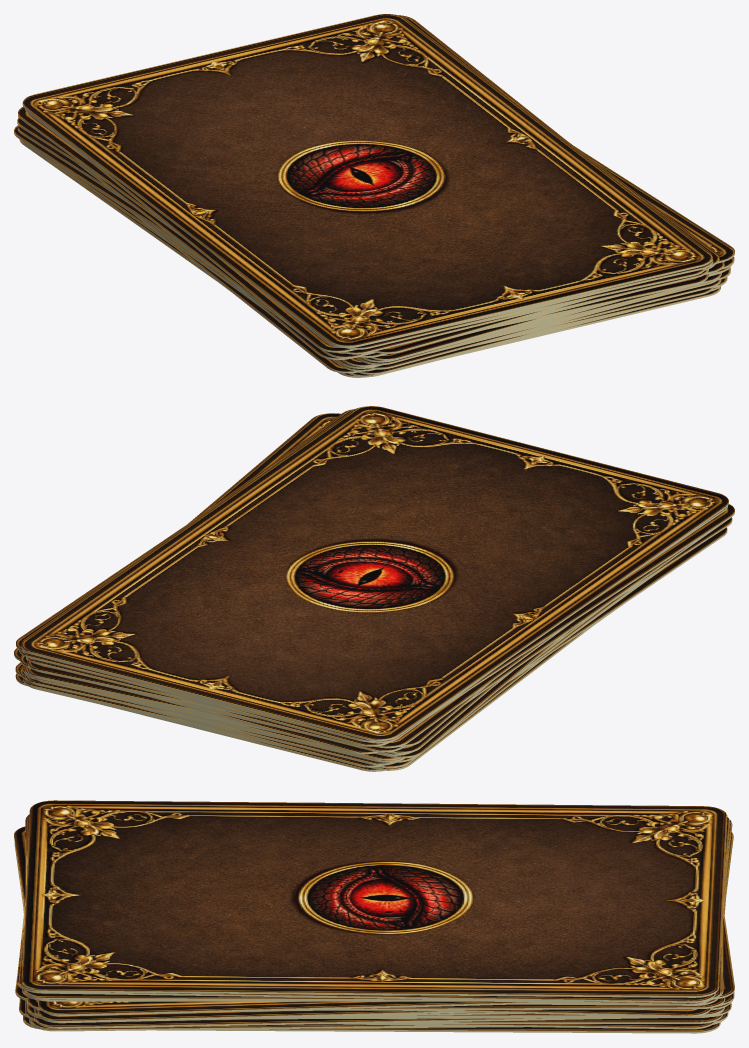
File: Deck principal.fbx
3 views of the same model, one above another, from view 1: azimuth 30°, elevation 25°; view 2: azimuth 150°, elevation 25°; view 3: azimuth 270°, elevation 25° (orthographic). The views are drawn at different scales.
Parts seen in each view (by area): view 1: Card.019, Card.016, Card.014, Card.003, Card.015, Card.013, Card.018, Card.008, Card.010, Card.017, Card.011, Card.001 (+6 smaller); view 2: Card.019, Card.016, Card.014, Card.003, Card.015, Card.013, Card.018, Card.008, Card.010, Card.017, Card.011, Card.001 (+6 smaller); view 3: Card.019, Card.014, Card.018, Card.005, Card.010, Card.017, Card, Card.012, Card.011, Card.002, Card.004, Card.003 (+5 smaller).
Part boxes in pixels (<box>): Card.019: <box>22,14,712,347</box>; Card.016: <box>63,140,705,352</box>; Card.014: <box>17,117,734,353</box>; Card.003: <box>133,214,713,373</box>; Card.015: <box>18,107,714,354</box>; Card.013: <box>18,116,708,358</box>; Card.018: <box>241,15,713,348</box>; Card.008: <box>14,125,723,365</box>; Card.010: <box>17,125,734,360</box>; Card.017: <box>25,109,719,349</box>; Card.011: <box>223,274,708,359</box>; Card.001: <box>19,139,721,377</box>; Card.019: <box>21,406,728,741</box>; Card.016: <box>130,504,734,746</box>; Card.014: <box>27,413,491,746</box>; Card.003: <box>15,527,727,767</box>; Card.015: <box>26,622,572,748</box>; Card.013: <box>26,519,728,752</box>; Card.018: <box>16,491,727,742</box>; Card.008: <box>32,632,568,758</box>; Card.010: <box>27,668,508,753</box>; Card.017: <box>19,409,503,743</box>; Card.011: <box>14,517,732,754</box>; Card.001: <box>28,618,603,770</box>; Card.019: <box>21,800,727,997</box>; Card.014: <box>14,826,734,1016</box>; Card.018: <box>18,817,730,1002</box>; Card.005: <box>23,909,731,1028</box>; Card.010: <box>14,843,734,1022</box>; Card.017: <box>24,814,723,1001</box>; Card: <box>23,1016,720,1033</box>; Card.012: <box>27,997,725,1010</box>; Card.011: <box>15,832,733,1017</box>; Card.002: <box>30,1012,728,1031</box>; Card.004: <box>25,1000,722,1023</box>; Card.003: <box>19,900,725,1029</box>.
Size of the model in its own units: 0.0618 by 0.0048 by 0.0898.
